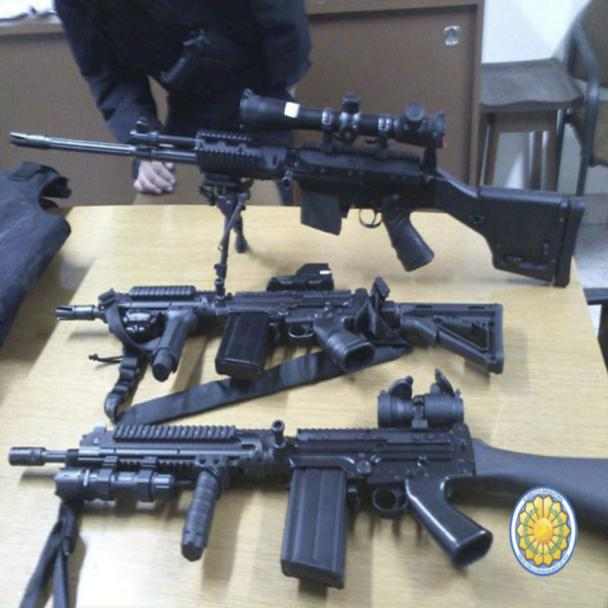Gun: (9, 361, 607, 599), (0, 93, 588, 284), (49, 249, 512, 387)
